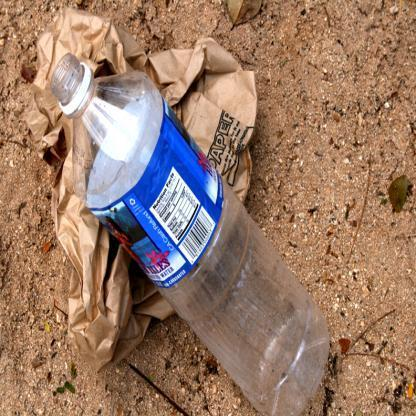bottle: (44, 51, 343, 416)
